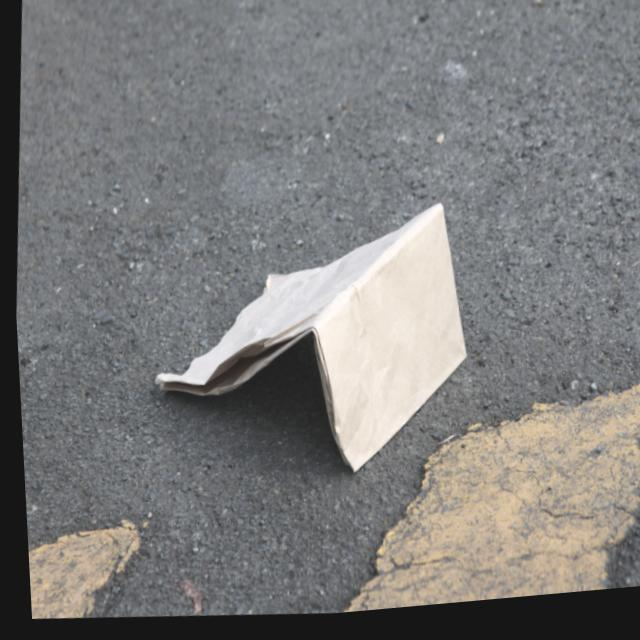Paper_Bag: (139, 188, 478, 500)
